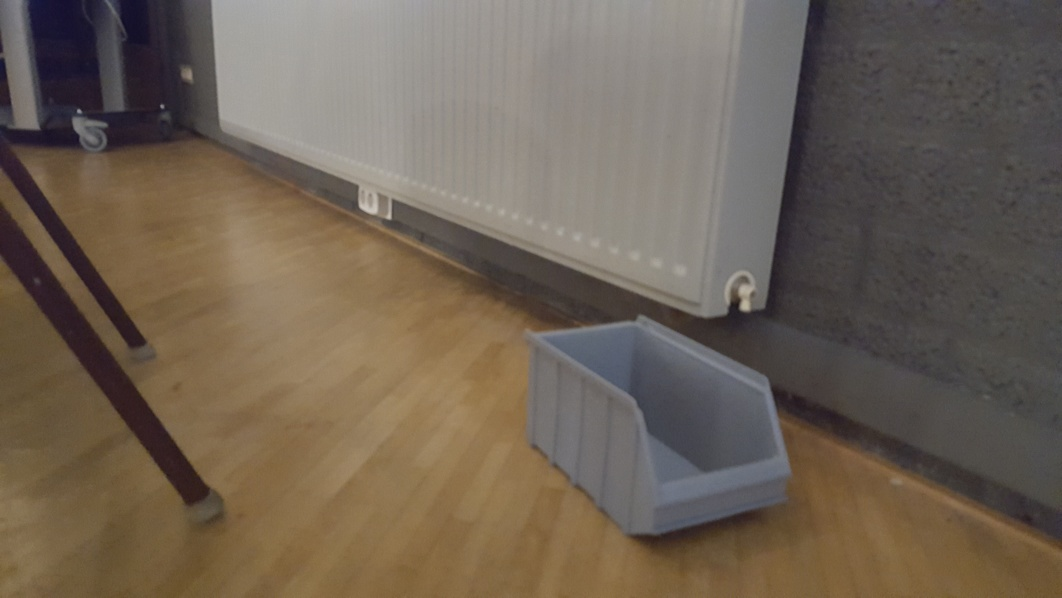tray: (519, 316, 795, 538)
